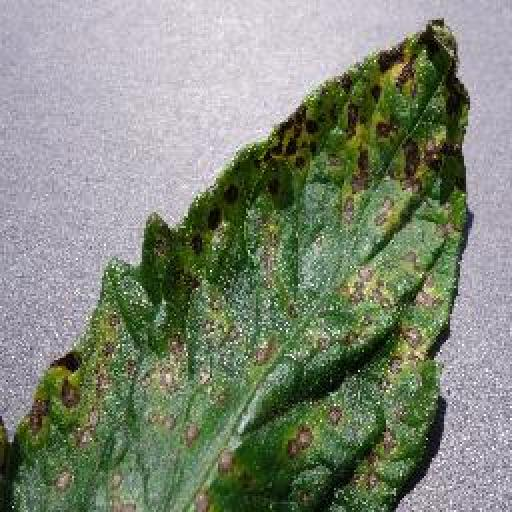Septoria: (3, 20, 474, 512)
